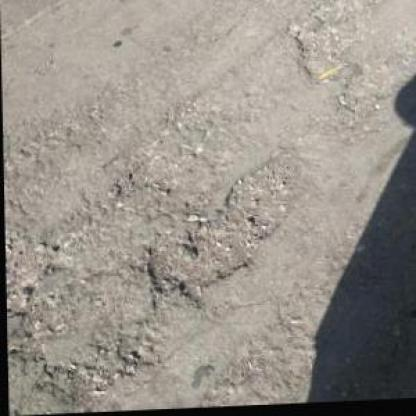pothole: (139, 219, 262, 308), (218, 155, 306, 240), (337, 61, 402, 122)
